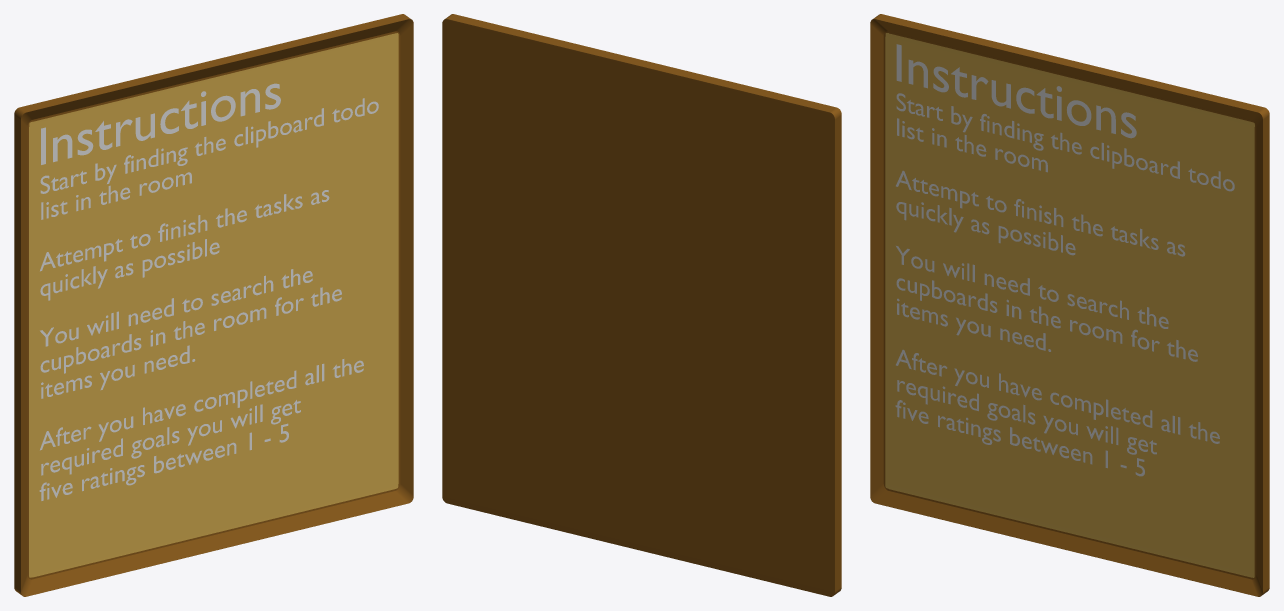
Rendered from instructions.fbx.
The picture shows the model from 3 angles, left to right: view 1: azimuth 30°, elevation 25°; view 2: azimuth 150°, elevation 25°; view 3: azimuth 330°, elevation 25°; orthographic projection.
Visible parts, largest first — view 1: Cube, Text.001, Text; view 2: Cube; view 3: Cube, Text.001, Text.
Boxes of the visible parts, x1=… form: Cube: x1=14, y1=14, x2=413, y2=596; Text.001: x1=39, y1=98, x2=378, y2=500; Text: x1=41, y1=83, x2=280, y2=164; Cube: x1=442, y1=14, x2=841, y2=596; Cube: x1=870, y1=14, x2=1269, y2=596; Text.001: x1=895, y1=93, x2=1234, y2=476; Text: x1=896, y1=44, x2=1136, y2=138.
Bounding box in the file's own units: 2701 × 3183 × 81.66.
